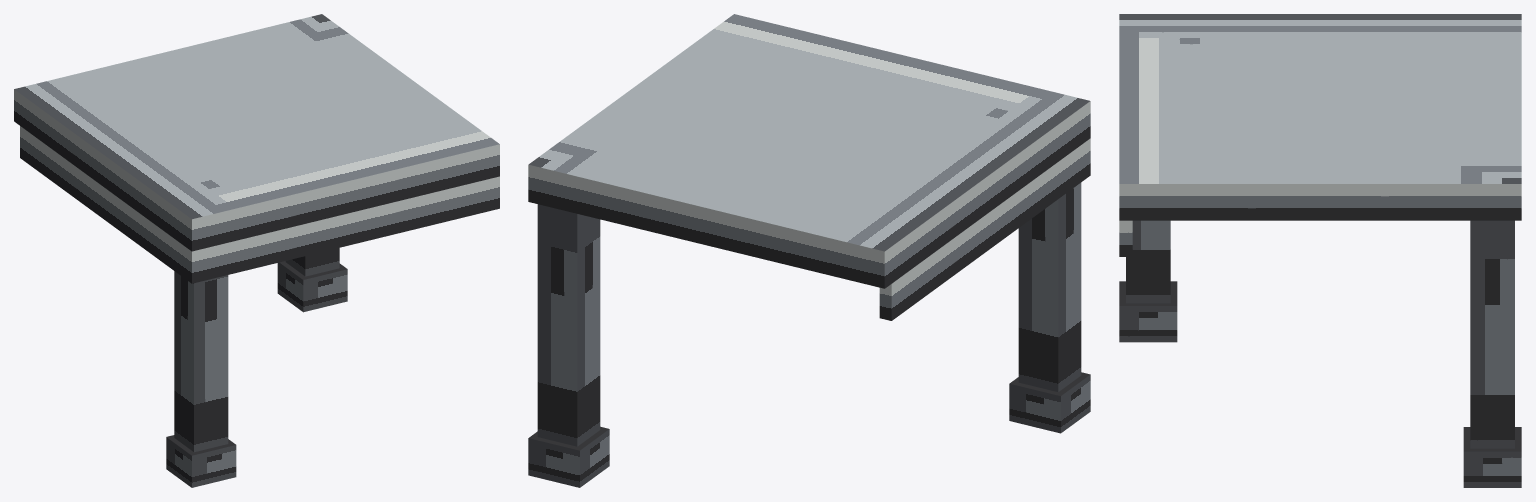
File: reinforced_table_corner_2legs.glb
The picture shows the model from 3 angles, left to right: view 1: azimuth 30°, elevation 25°; view 2: azimuth 150°, elevation 25°; view 3: azimuth 270°, elevation 25°; orthographic projection. The views are drawn at different scales.
Parts seen in each view (by area): view 1: reinforced_table_corner_2legs; view 2: reinforced_table_corner_2legs; view 3: reinforced_table_corner_2legs.
Part boxes in pixels (x1,y1,x2,y2): reinforced_table_corner_2legs: (14,14,499,487); reinforced_table_corner_2legs: (528,14,1090,487); reinforced_table_corner_2legs: (1119,14,1521,487).
Size of the model in its own units: 0.9 by 0.75 by 0.9.
Materials: 1 (1 with a texture image).
